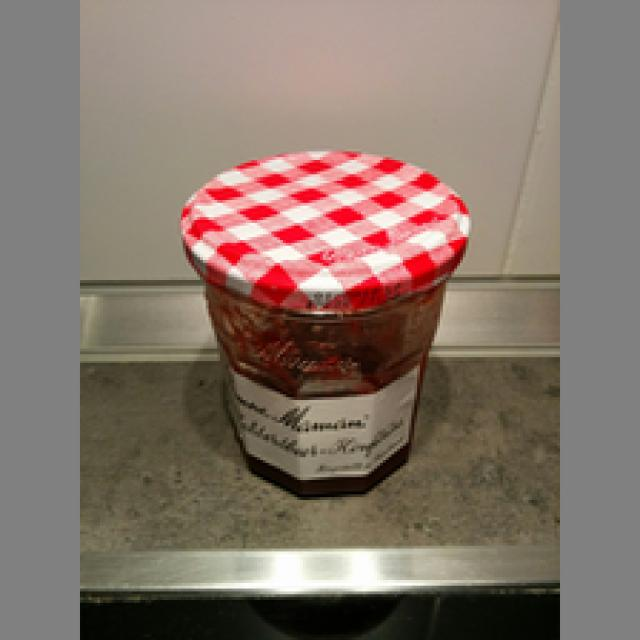groceries: (174, 143, 472, 497)
